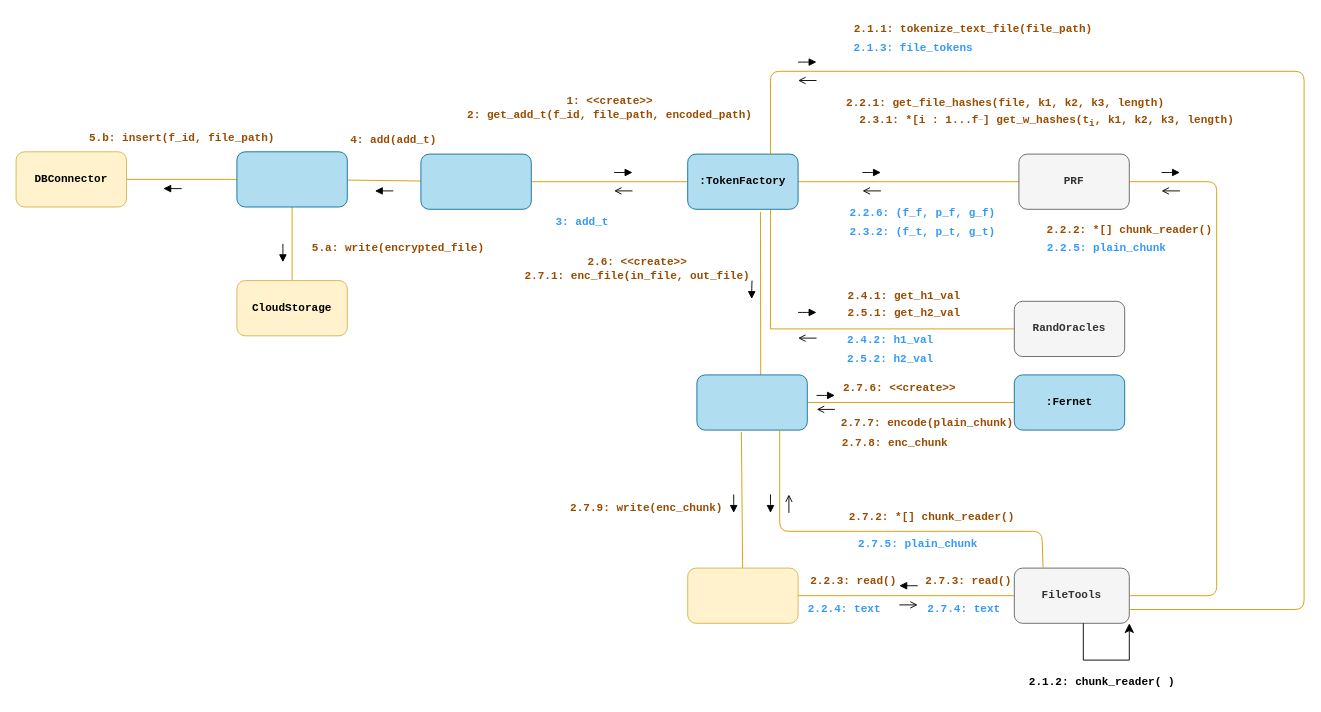
This 1321x712 diagram has some shape labels left out. The centre of each missing label's shape, as x and y in pixels:
":client" goes at pixel 475 181.
":Server" goes at pixel 291 179.
":SKE" goes at pixel 751 402.
"Local File System" goes at pixel 742 595.
